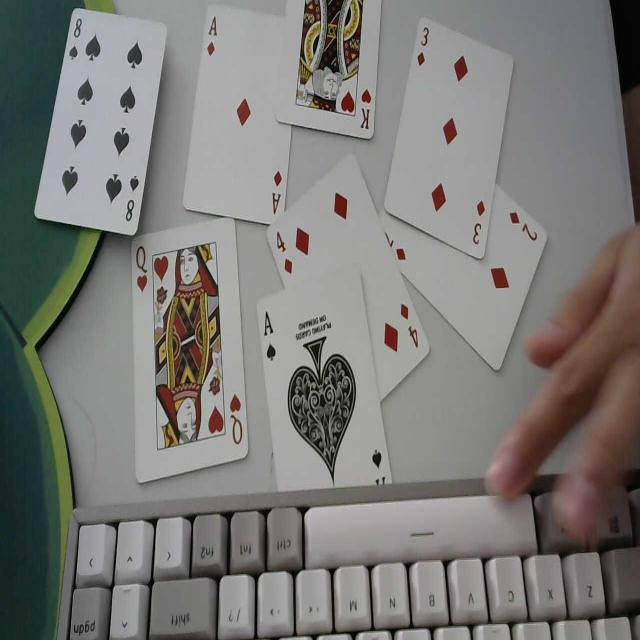2D: (505, 207, 544, 247)
3D: (470, 196, 488, 254), (415, 24, 434, 69)
4D: (398, 299, 422, 353), (272, 228, 294, 281)
8S: (68, 11, 84, 65), (125, 172, 139, 226)
AD: (269, 162, 283, 220), (207, 15, 219, 62)
AS: (261, 306, 281, 362)
KH: (356, 84, 374, 132)
QH: (229, 390, 245, 452), (134, 245, 150, 297)
